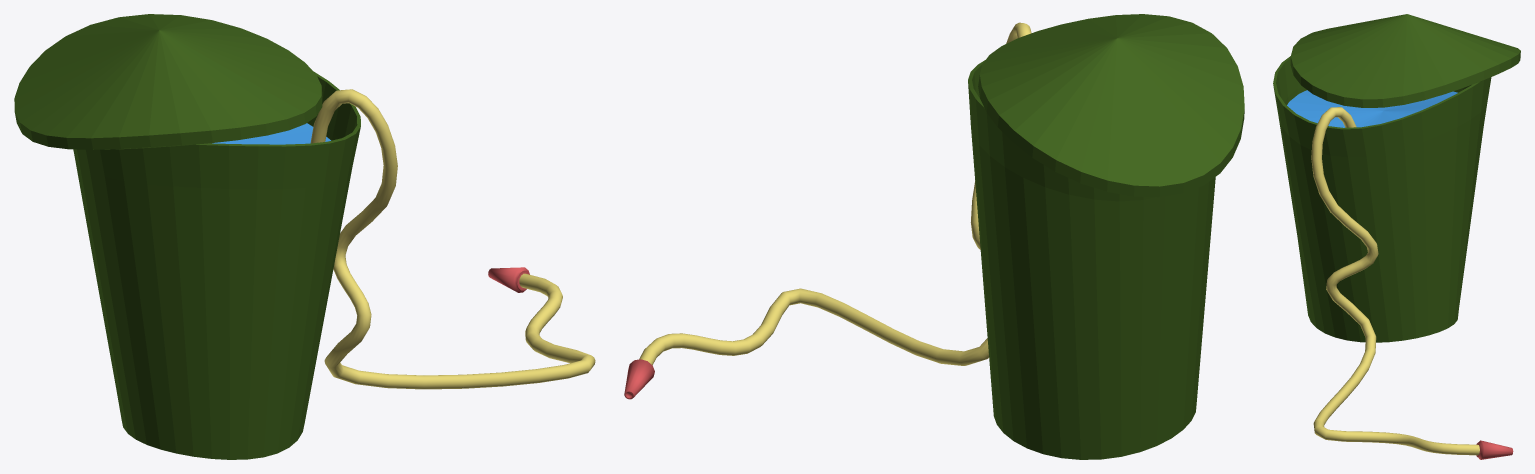
File: WaterBarrel.fbx
3 views of the same model, side by side, from view 1: azimuth 30°, elevation 25°; view 2: azimuth 150°, elevation 25°; view 3: azimuth 270°, elevation 25° (orthographic). The views are drawn at different scales.
Visible parts, largest first — view 1: Cylinder, Cylinder.001, BezierCurve, Cylinder.002, BezierCurve.001; view 2: Cylinder, Cylinder.001, BezierCurve, BezierCurve.001; view 3: Cylinder, Cylinder.001, BezierCurve, Cylinder.002, BezierCurve.001.
Boxes of the visible parts, bbox=[...] form: Cylinder: bbox=[73, 71, 360, 459]; Cylinder.001: bbox=[14, 14, 322, 149]; BezierCurve: bbox=[310, 89, 595, 389]; Cylinder.002: bbox=[212, 123, 330, 144]; BezierCurve.001: bbox=[488, 267, 529, 292]; Cylinder: bbox=[968, 60, 1215, 459]; Cylinder.001: bbox=[978, 14, 1244, 197]; BezierCurve: bbox=[639, 22, 1031, 365]; BezierCurve.001: bbox=[624, 359, 654, 399]; Cylinder: bbox=[1273, 56, 1491, 342]; Cylinder.001: bbox=[1290, 14, 1520, 107]; BezierCurve: bbox=[1311, 107, 1479, 455]; Cylinder.002: bbox=[1287, 90, 1457, 127]; BezierCurve.001: bbox=[1476, 440, 1513, 459].
Bounding box in the file's own units: 639 × 453 × 343.
